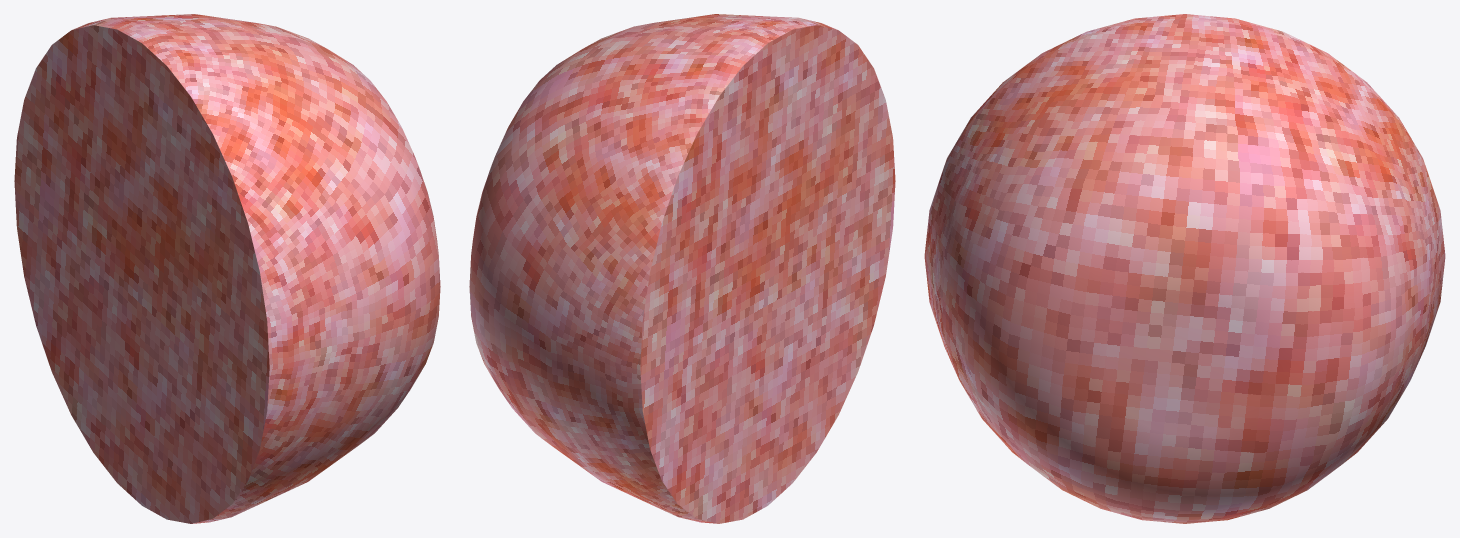
The model's file is Gumdrop.obj.
3 renders of one model, left to right at view 1: azimuth 30°, elevation 25°; view 2: azimuth 150°, elevation 25°; view 3: azimuth 270°, elevation 25°, orthographic.
Size of the model in its own units: 25.06 by 46.92 by 46.92.
1 material, 1 textured.
